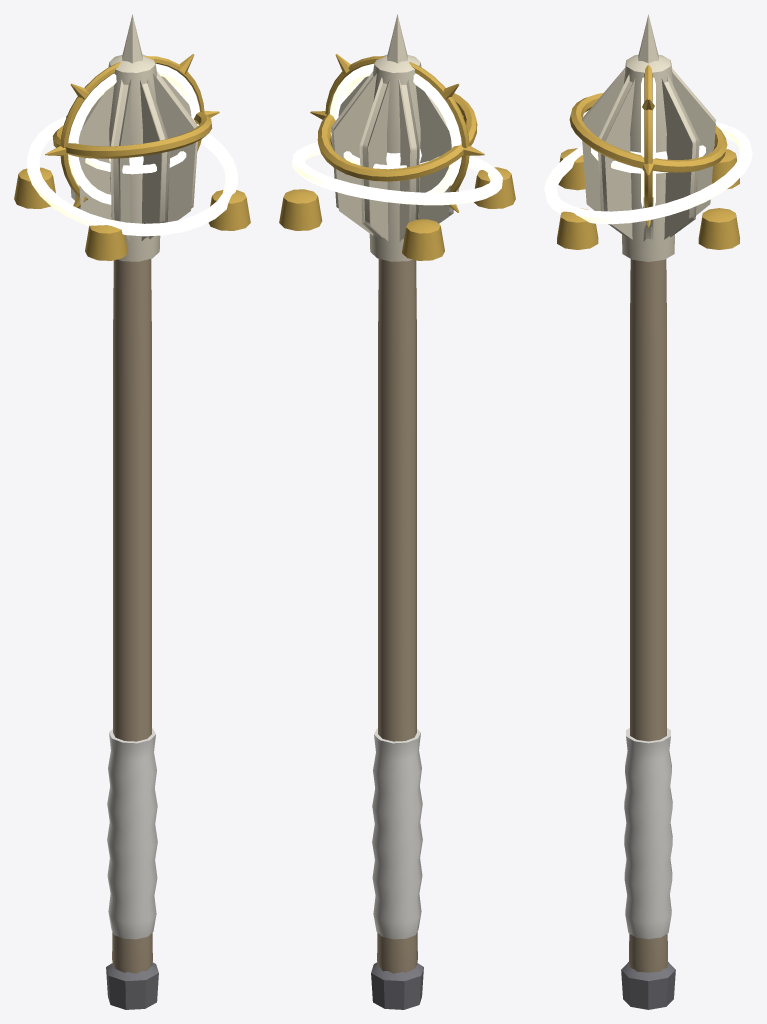
The model's file is fa_choirmasters_mace.glb.
The picture shows the model from 3 angles, left to right: view 1: azimuth 30°, elevation 25°; view 2: azimuth 150°, elevation 25°; view 3: azimuth 270°, elevation 25°; orthographic projection.
Parts seen in each view (by area): view 1: fa_choirmasters_mace; view 2: fa_choirmasters_mace; view 3: fa_choirmasters_mace.
Boxes of the visible parts, x1,y1,x2,y2 form: fa_choirmasters_mace: (14, 14, 250, 1009); fa_choirmasters_mace: (279, 14, 515, 1009); fa_choirmasters_mace: (544, 14, 752, 1009).
Bounding box in the file's own units: 0.1951 × 1.01 × 0.1919.
